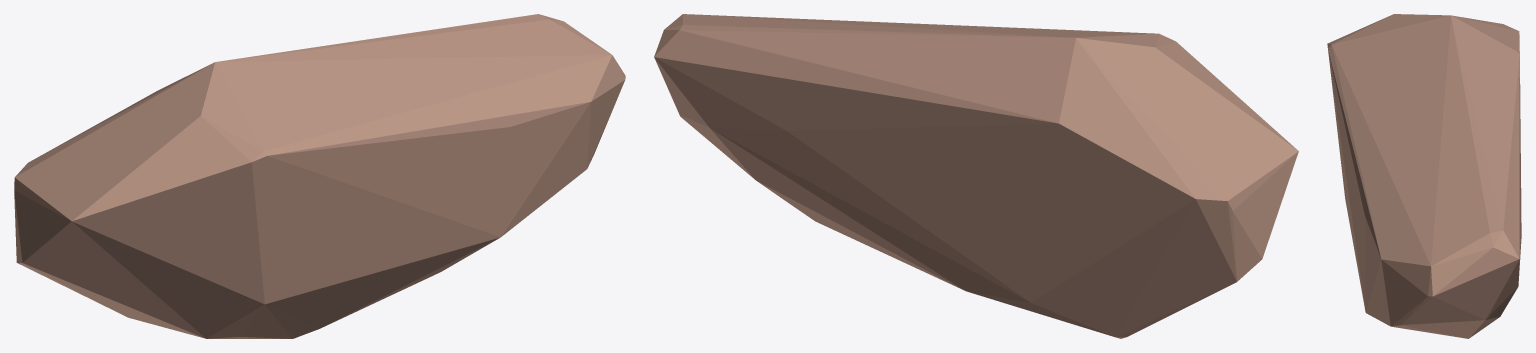
File: food_produce_grape_a01.glb
The picture shows the model from 3 angles, left to right: view 1: azimuth 30°, elevation 25°; view 2: azimuth 150°, elevation 25°; view 3: azimuth 270°, elevation 25°; orthographic projection. The views are drawn at different scales.
Parts seen in each view (by area): view 1: geometry_0; view 2: geometry_0; view 3: geometry_0.
Part boxes in pixels (<box>): geometry_0: <box>14,14,625,338</box>; geometry_0: <box>654,14,1298,338</box>; geometry_0: <box>1327,14,1521,338</box>.
Bounding box in the file's own units: 0.4769 × 0.2082 × 0.1461.
